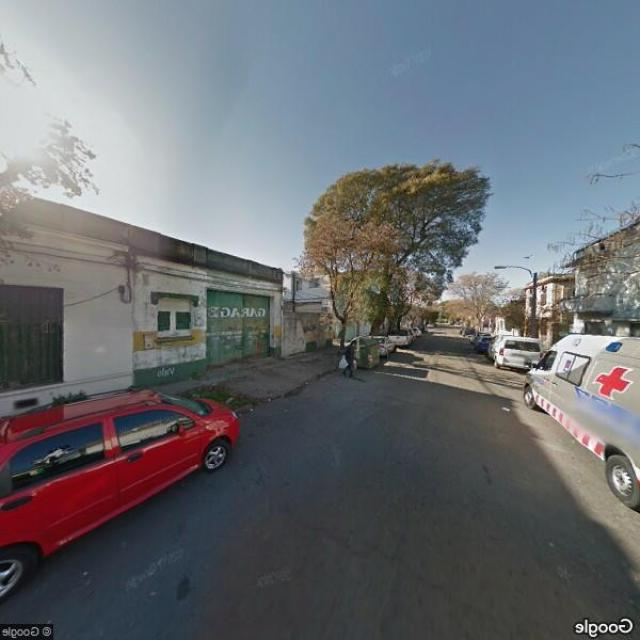garbage container: (340, 330, 390, 374)
